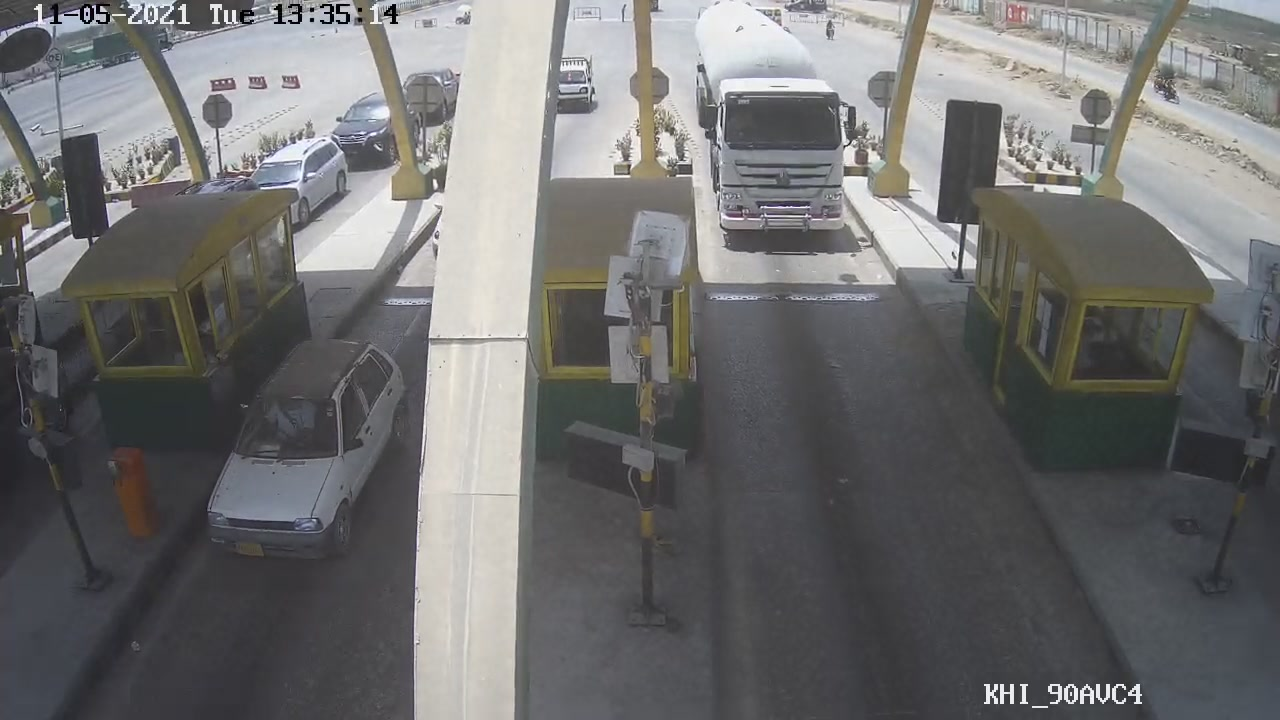F6: (688, 6, 859, 240)
